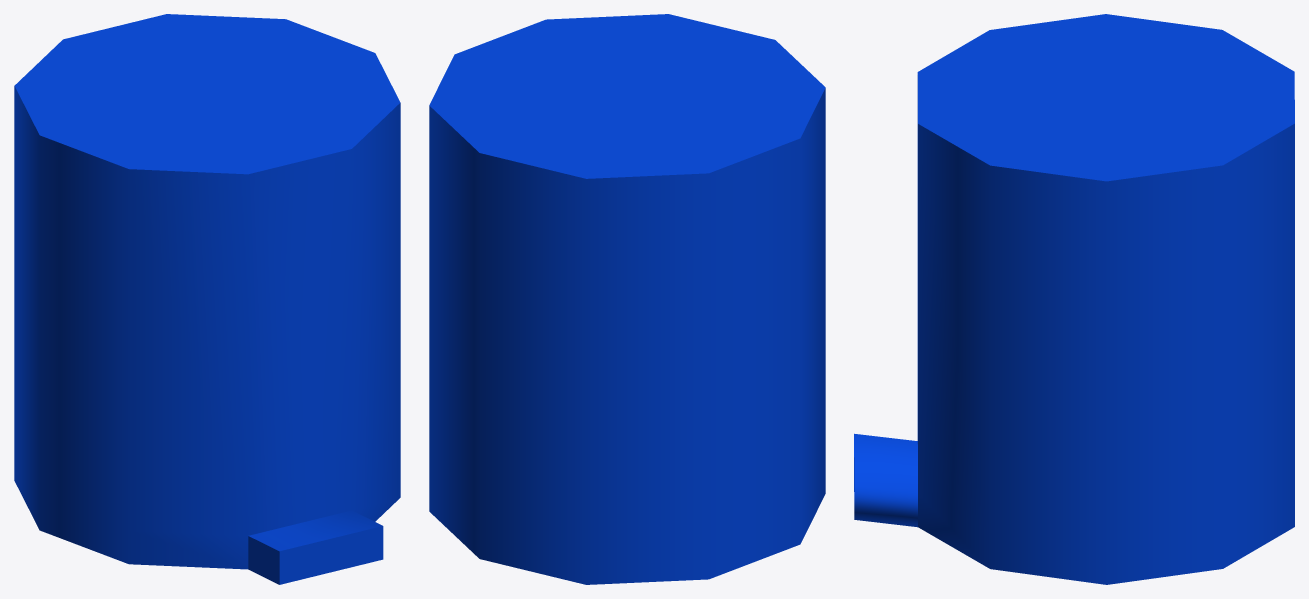
File: papelera.fbx
The picture shows the model from 3 angles, left to right: view 1: azimuth 30°, elevation 25°; view 2: azimuth 150°, elevation 25°; view 3: azimuth 270°, elevation 25°; orthographic projection. The views are drawn at different scales.
Visible parts, largest first — view 1: papelera; view 2: papelera; view 3: papelera.
Boxes of the visible parts, x1,y1,x2,y2 form: papelera: [14, 14, 400, 584]; papelera: [429, 14, 825, 584]; papelera: [854, 14, 1294, 584].
Size of the model in its own units: 23.18 by 26.04 by 25.78.
